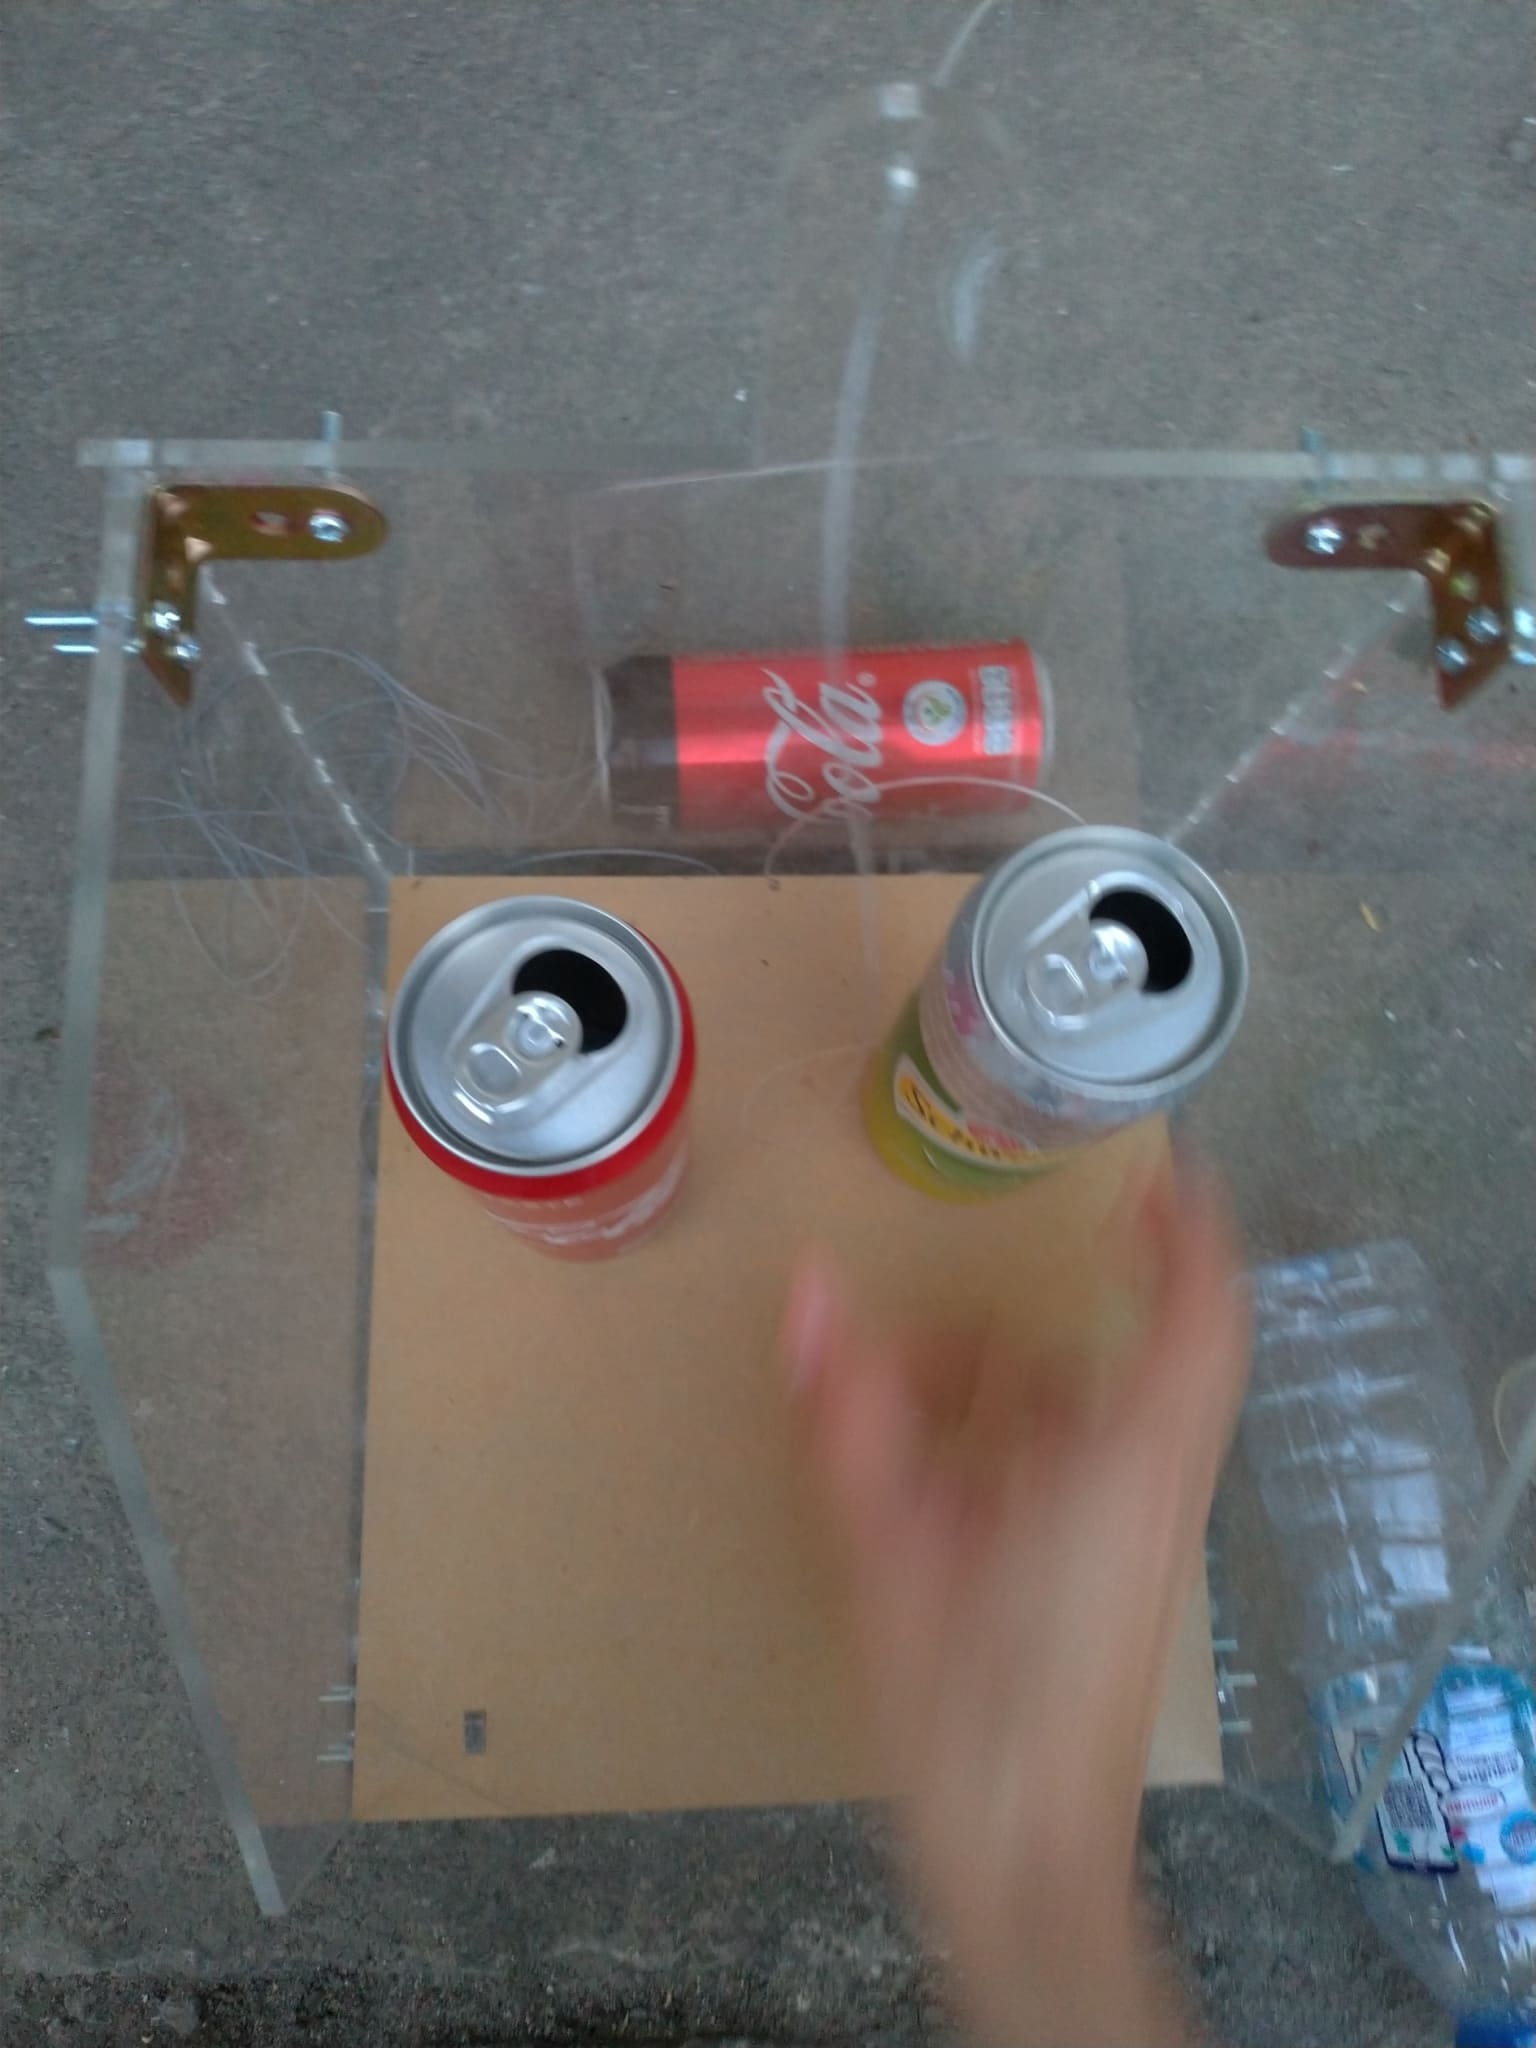AlCan: (860, 818, 1260, 1214), (387, 889, 710, 1251), (586, 639, 1063, 830)
PlasticBottle: (1234, 1248, 1526, 2048)
